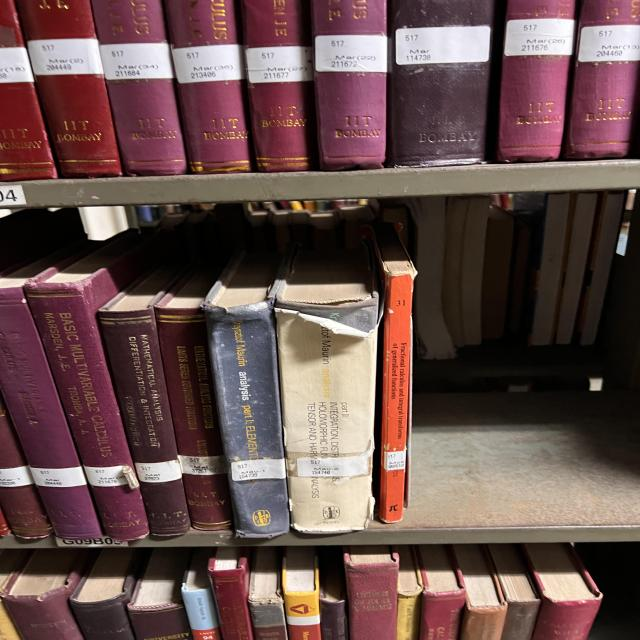Book: (25, 234, 160, 541), (275, 248, 380, 532), (0, 260, 102, 539), (203, 252, 290, 538), (98, 266, 190, 536), (17, 0, 122, 178), (387, 0, 495, 166), (92, 0, 187, 176), (165, 0, 252, 174), (372, 224, 417, 522), (312, 0, 387, 171), (497, 0, 575, 162), (242, 0, 315, 171), (563, 0, 640, 159), (177, 346, 197, 430)
Label: (395, 26, 490, 65), (172, 44, 243, 84), (100, 42, 173, 80), (27, 39, 103, 75), (315, 35, 387, 72), (503, 19, 575, 56), (245, 46, 313, 84), (578, 25, 640, 62), (297, 449, 372, 478), (30, 466, 87, 488), (232, 459, 287, 481), (0, 48, 33, 82), (135, 459, 182, 482), (178, 455, 227, 475), (83, 465, 128, 486), (385, 450, 407, 471)
